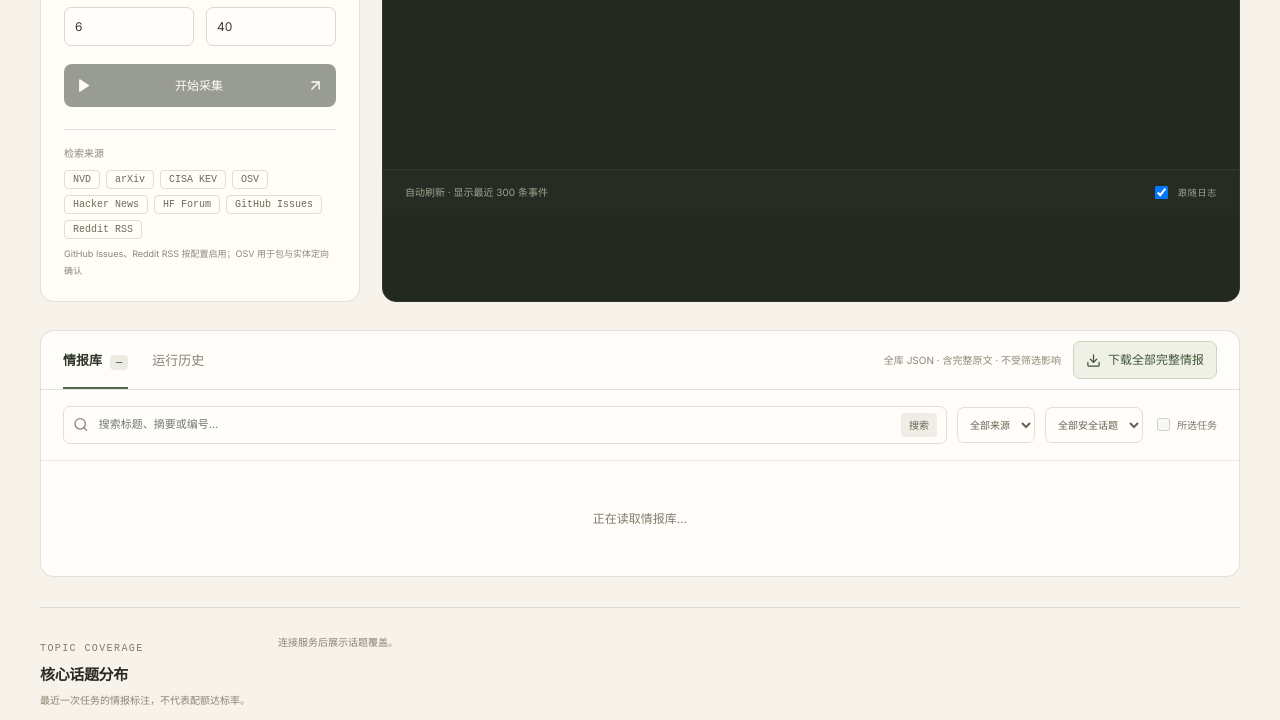
Test case: IntelDashboard › shows export errors without starting a download (200, text/html)
The width and height of the screenshot is (1280, 720).
(page scrolled)
Click the button "下载全部完整情报" at (1145, 360), box 1073,342 -> 1217,379
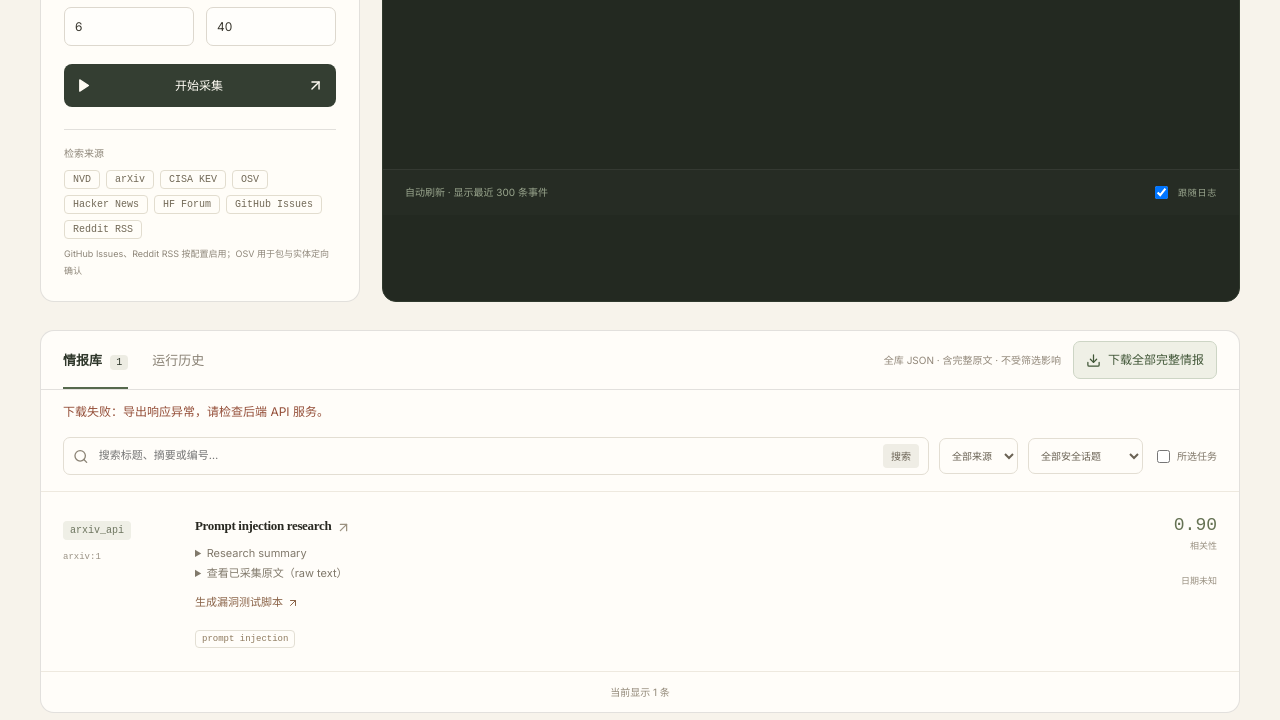
expect the message shows "导出响应异常": met, box 123,404 -> 329,419
